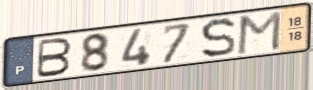4: (120, 26, 154, 68)
7: (162, 21, 193, 64)
8: (79, 31, 112, 73)
B: (35, 37, 75, 80)
M: (235, 9, 284, 57)
S: (199, 17, 238, 60)
